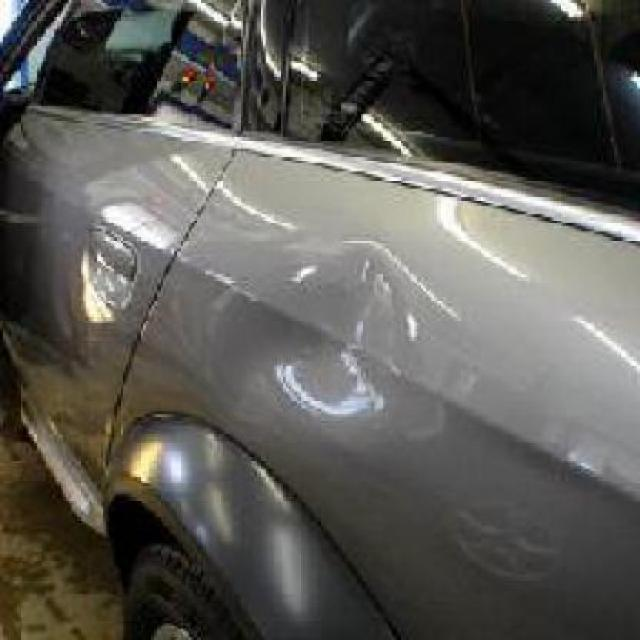dent-or-scratch: (210, 225, 450, 438)
